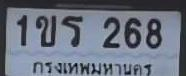1: (16, 14, 26, 45)
2: (102, 16, 119, 47)
6: (124, 17, 140, 48)
8: (145, 17, 161, 48)
A02: (35, 14, 55, 46)
A35: (60, 15, 82, 46)
BKK: (29, 58, 153, 76)
